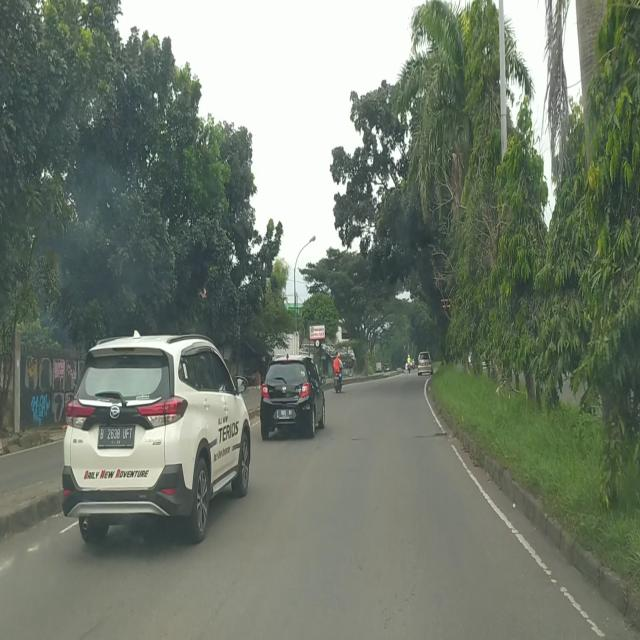Sewer Cover: (331, 429, 446, 442)
